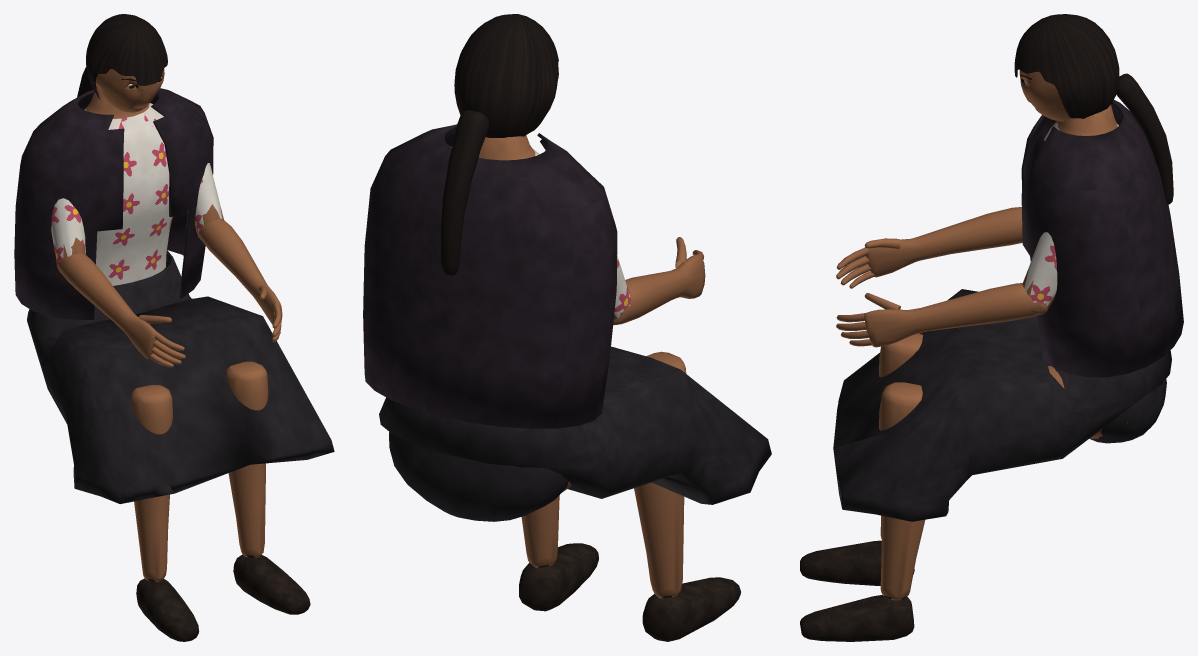
Rendered from persona_mujer_sentada_medio.obj.
The picture shows the model from 3 angles, left to right: view 1: azimuth 30°, elevation 25°; view 2: azimuth 150°, elevation 25°; view 3: azimuth 270°, elevation 25°; orthographic projection. The views are drawn at different scales.
Visible parts, largest first — view 1: persona_mujer_sentada; view 2: persona_mujer_sentada; view 3: persona_mujer_sentada.
Boxes of the visible parts, box(x1,y1,x2,y2) form: persona_mujer_sentada: box(14, 14, 334, 641); persona_mujer_sentada: box(363, 14, 771, 641); persona_mujer_sentada: box(800, 14, 1183, 641).
Bounding box in the file's own units: 0.6023 × 1.25 × 0.7345.
Materials: 12 (12 with a texture image).
